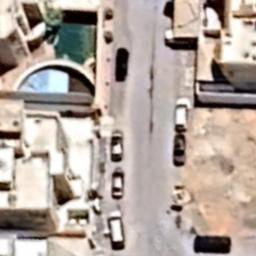SUV: (174, 98, 189, 132)
sedan: (114, 46, 129, 84), (110, 128, 124, 162), (173, 134, 187, 167), (111, 167, 125, 199)
unknown: (192, 234, 234, 254)
van: (108, 210, 124, 248)
